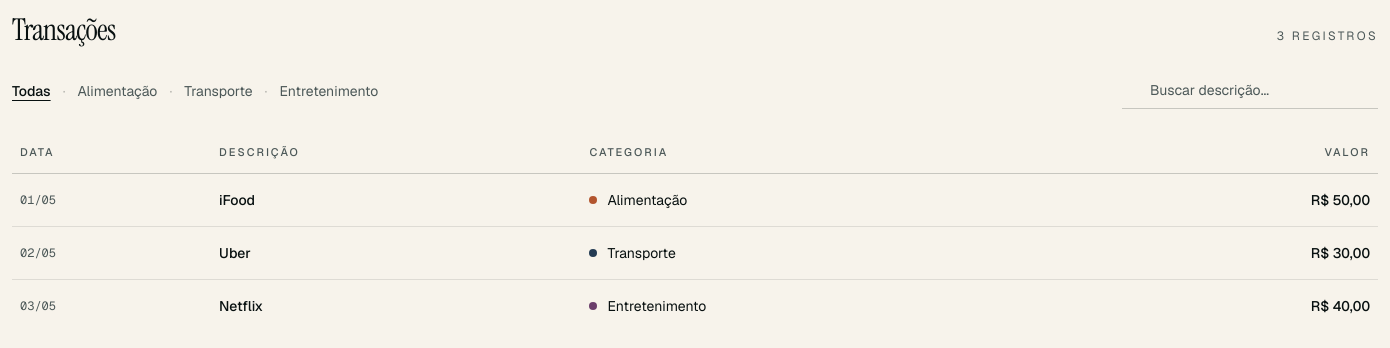
Scenario: "Todas" chip resets category filter
Click the button "Alimentação": [117, 90] box left=78, top=80, right=157, bottom=100
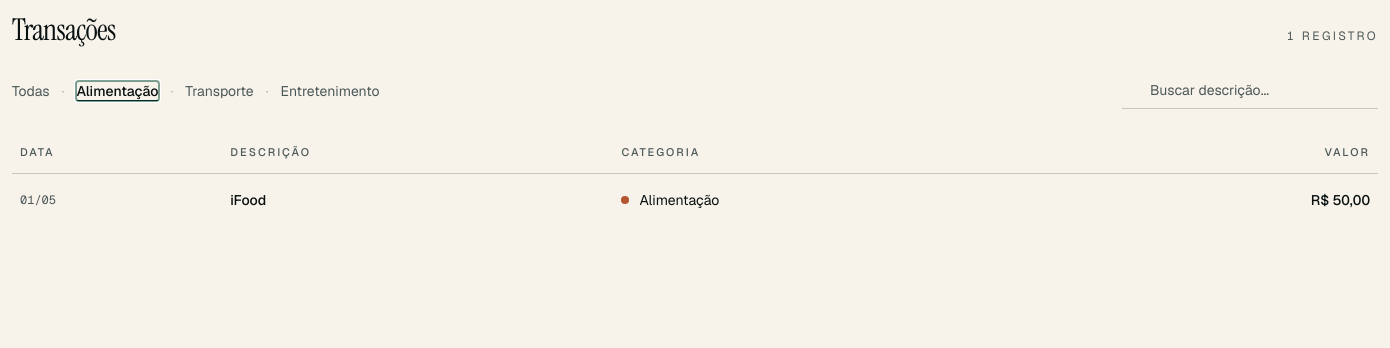
Click the button "Todas": [31, 90] box left=12, top=80, right=50, bottom=100
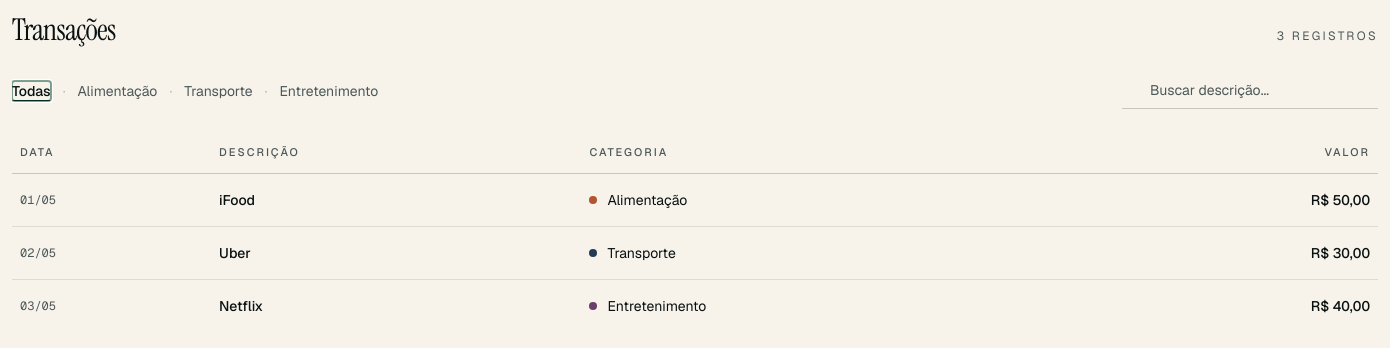
Expected: the text "iFood" is shown, left=211, top=173, right=581, bottom=226
Expected: the text "Uber" is shown, left=211, top=226, right=581, bottom=279
Expected: the text "Netflix" is shown, left=211, top=279, right=581, bottom=332
